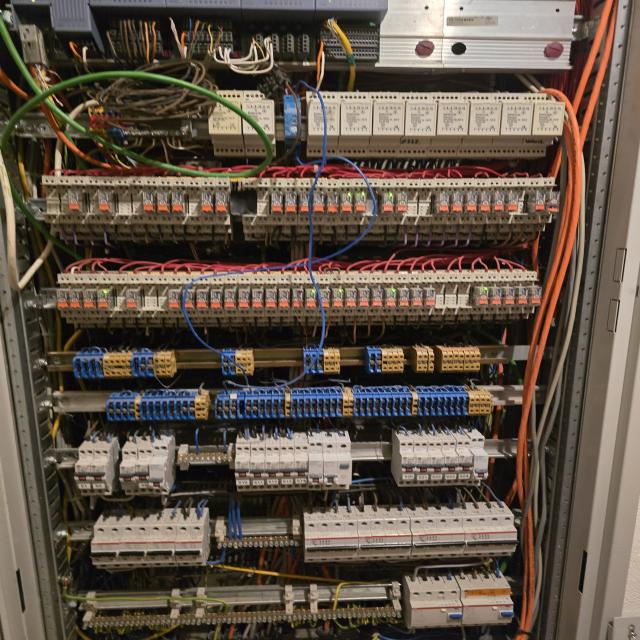Dimmer: (515, 93, 564, 158), (486, 93, 533, 157), (457, 92, 502, 157), (426, 92, 470, 158), (397, 92, 439, 158), (366, 92, 406, 157), (208, 90, 246, 157), (240, 89, 275, 158), (336, 92, 373, 157), (307, 91, 340, 156), (283, 94, 302, 155)
FI: (458, 588, 514, 627), (409, 589, 463, 628)
FI_Sicherungskombi: (322, 441, 352, 490)
Relais: (96, 189, 116, 214), (471, 285, 488, 307), (126, 289, 143, 311), (433, 191, 449, 214), (68, 189, 83, 213), (97, 288, 113, 310), (491, 190, 506, 212), (172, 192, 186, 215), (215, 191, 229, 214), (354, 189, 366, 215), (271, 190, 283, 214), (265, 288, 277, 312), (210, 289, 223, 311), (422, 287, 436, 307), (83, 289, 97, 309), (382, 191, 394, 214), (548, 190, 560, 213), (143, 191, 156, 212), (157, 191, 170, 212), (464, 191, 477, 212), (327, 192, 339, 214), (341, 191, 353, 213), (479, 190, 491, 212), (224, 289, 236, 311), (201, 192, 214, 212), (313, 191, 325, 212), (529, 285, 541, 306), (384, 287, 396, 308), (502, 286, 515, 305), (410, 288, 423, 307), (396, 191, 407, 213), (508, 190, 519, 212), (452, 192, 464, 212), (358, 287, 370, 307), (292, 288, 304, 308), (278, 288, 290, 308), (238, 289, 250, 309), (196, 289, 208, 309), (57, 289, 69, 309), (69, 289, 81, 309), (285, 193, 296, 214), (372, 287, 383, 308), (169, 289, 180, 310), (397, 287, 409, 306), (345, 288, 357, 307), (305, 288, 317, 307), (332, 288, 343, 308), (252, 289, 263, 309), (320, 288, 330, 308), (185, 289, 194, 311), (491, 286, 501, 305), (300, 192, 309, 213), (517, 286, 527, 304), (536, 192, 545, 210)
Sicherungen_230V: (90, 525, 124, 568), (146, 524, 179, 568), (118, 525, 151, 568), (174, 524, 206, 567), (465, 437, 489, 486), (89, 448, 113, 496), (75, 447, 96, 496), (410, 440, 432, 486), (437, 440, 459, 486), (119, 448, 140, 495), (149, 445, 169, 494), (134, 448, 155, 494), (452, 440, 473, 486), (425, 440, 445, 486), (398, 440, 416, 486), (307, 441, 323, 491), (234, 444, 251, 491), (250, 444, 266, 491), (279, 443, 295, 490), (293, 443, 309, 490), (265, 444, 280, 491)
Sicherungen_400V: (460, 515, 517, 558), (408, 517, 466, 559), (304, 520, 359, 563), (356, 519, 412, 561)
Verbinder: (215, 385, 492, 420), (106, 390, 211, 420), (74, 351, 176, 378), (437, 345, 481, 373), (366, 345, 404, 374), (304, 347, 340, 374), (221, 350, 254, 376), (412, 346, 435, 373)
